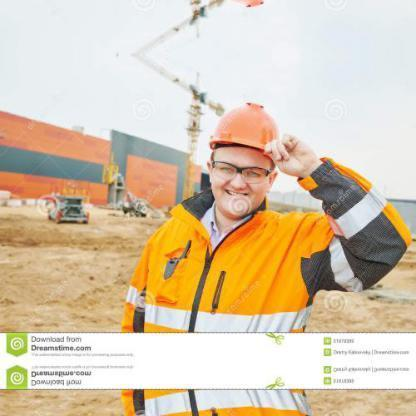helmet: (206, 99, 294, 160)
